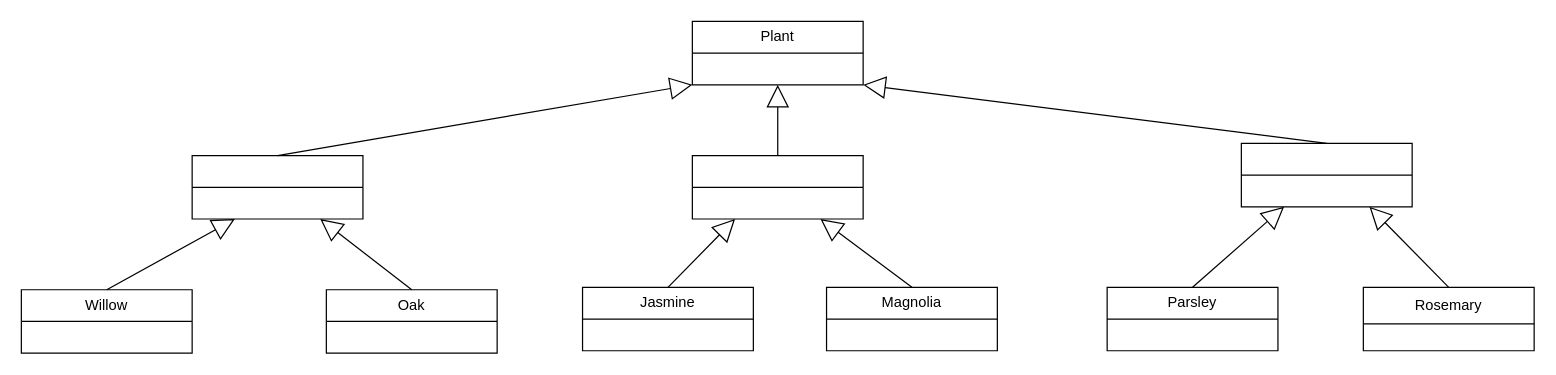
Image size: 1556x375. Some labels were removed from this diagram. The shapes that lost their labels are listed below. From the top down, each one's centre as x and y in pixels, then its label:
At point (277, 186): "Trees".
At point (777, 186): "Shrubs".
At point (1326, 174): "Herbs".
